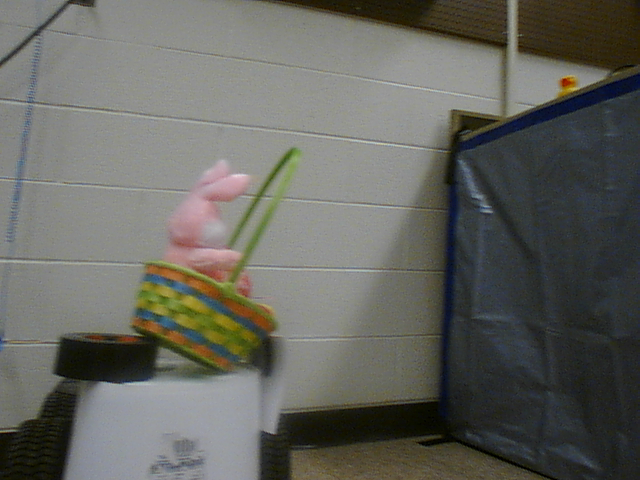bunny: (130, 146, 306, 377)
